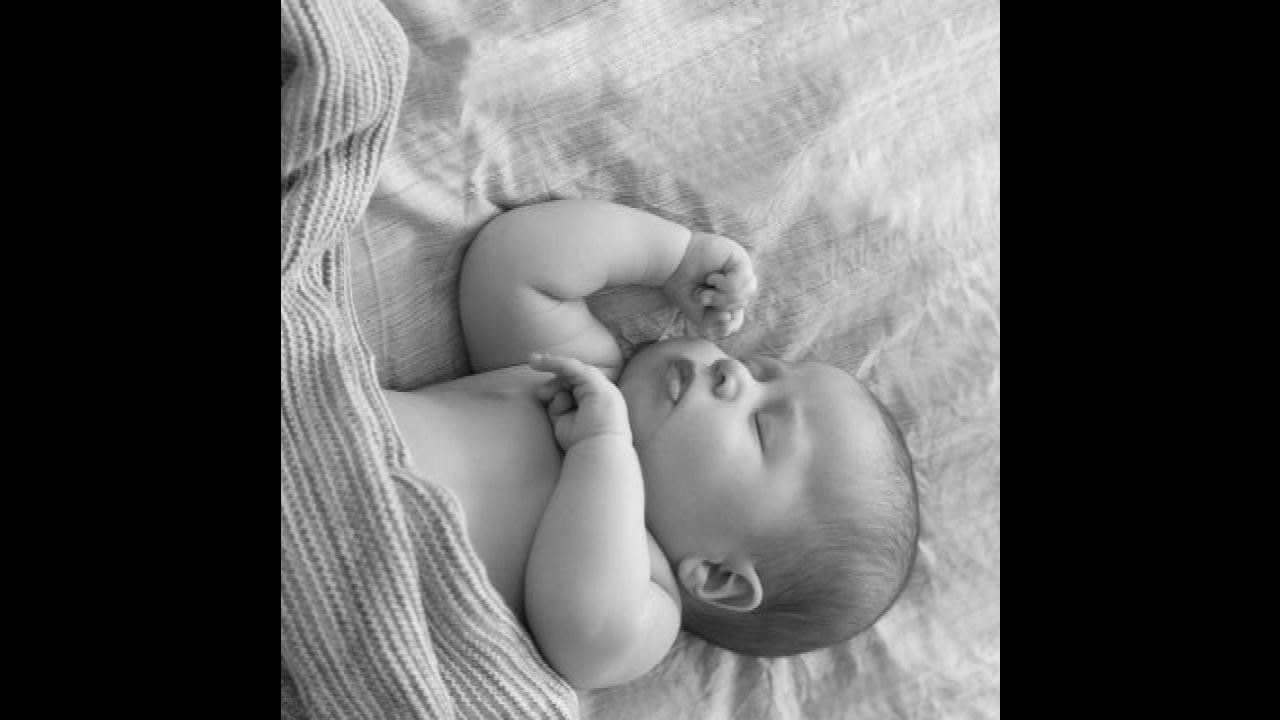hand: (524, 340, 632, 464), (662, 221, 759, 343)
